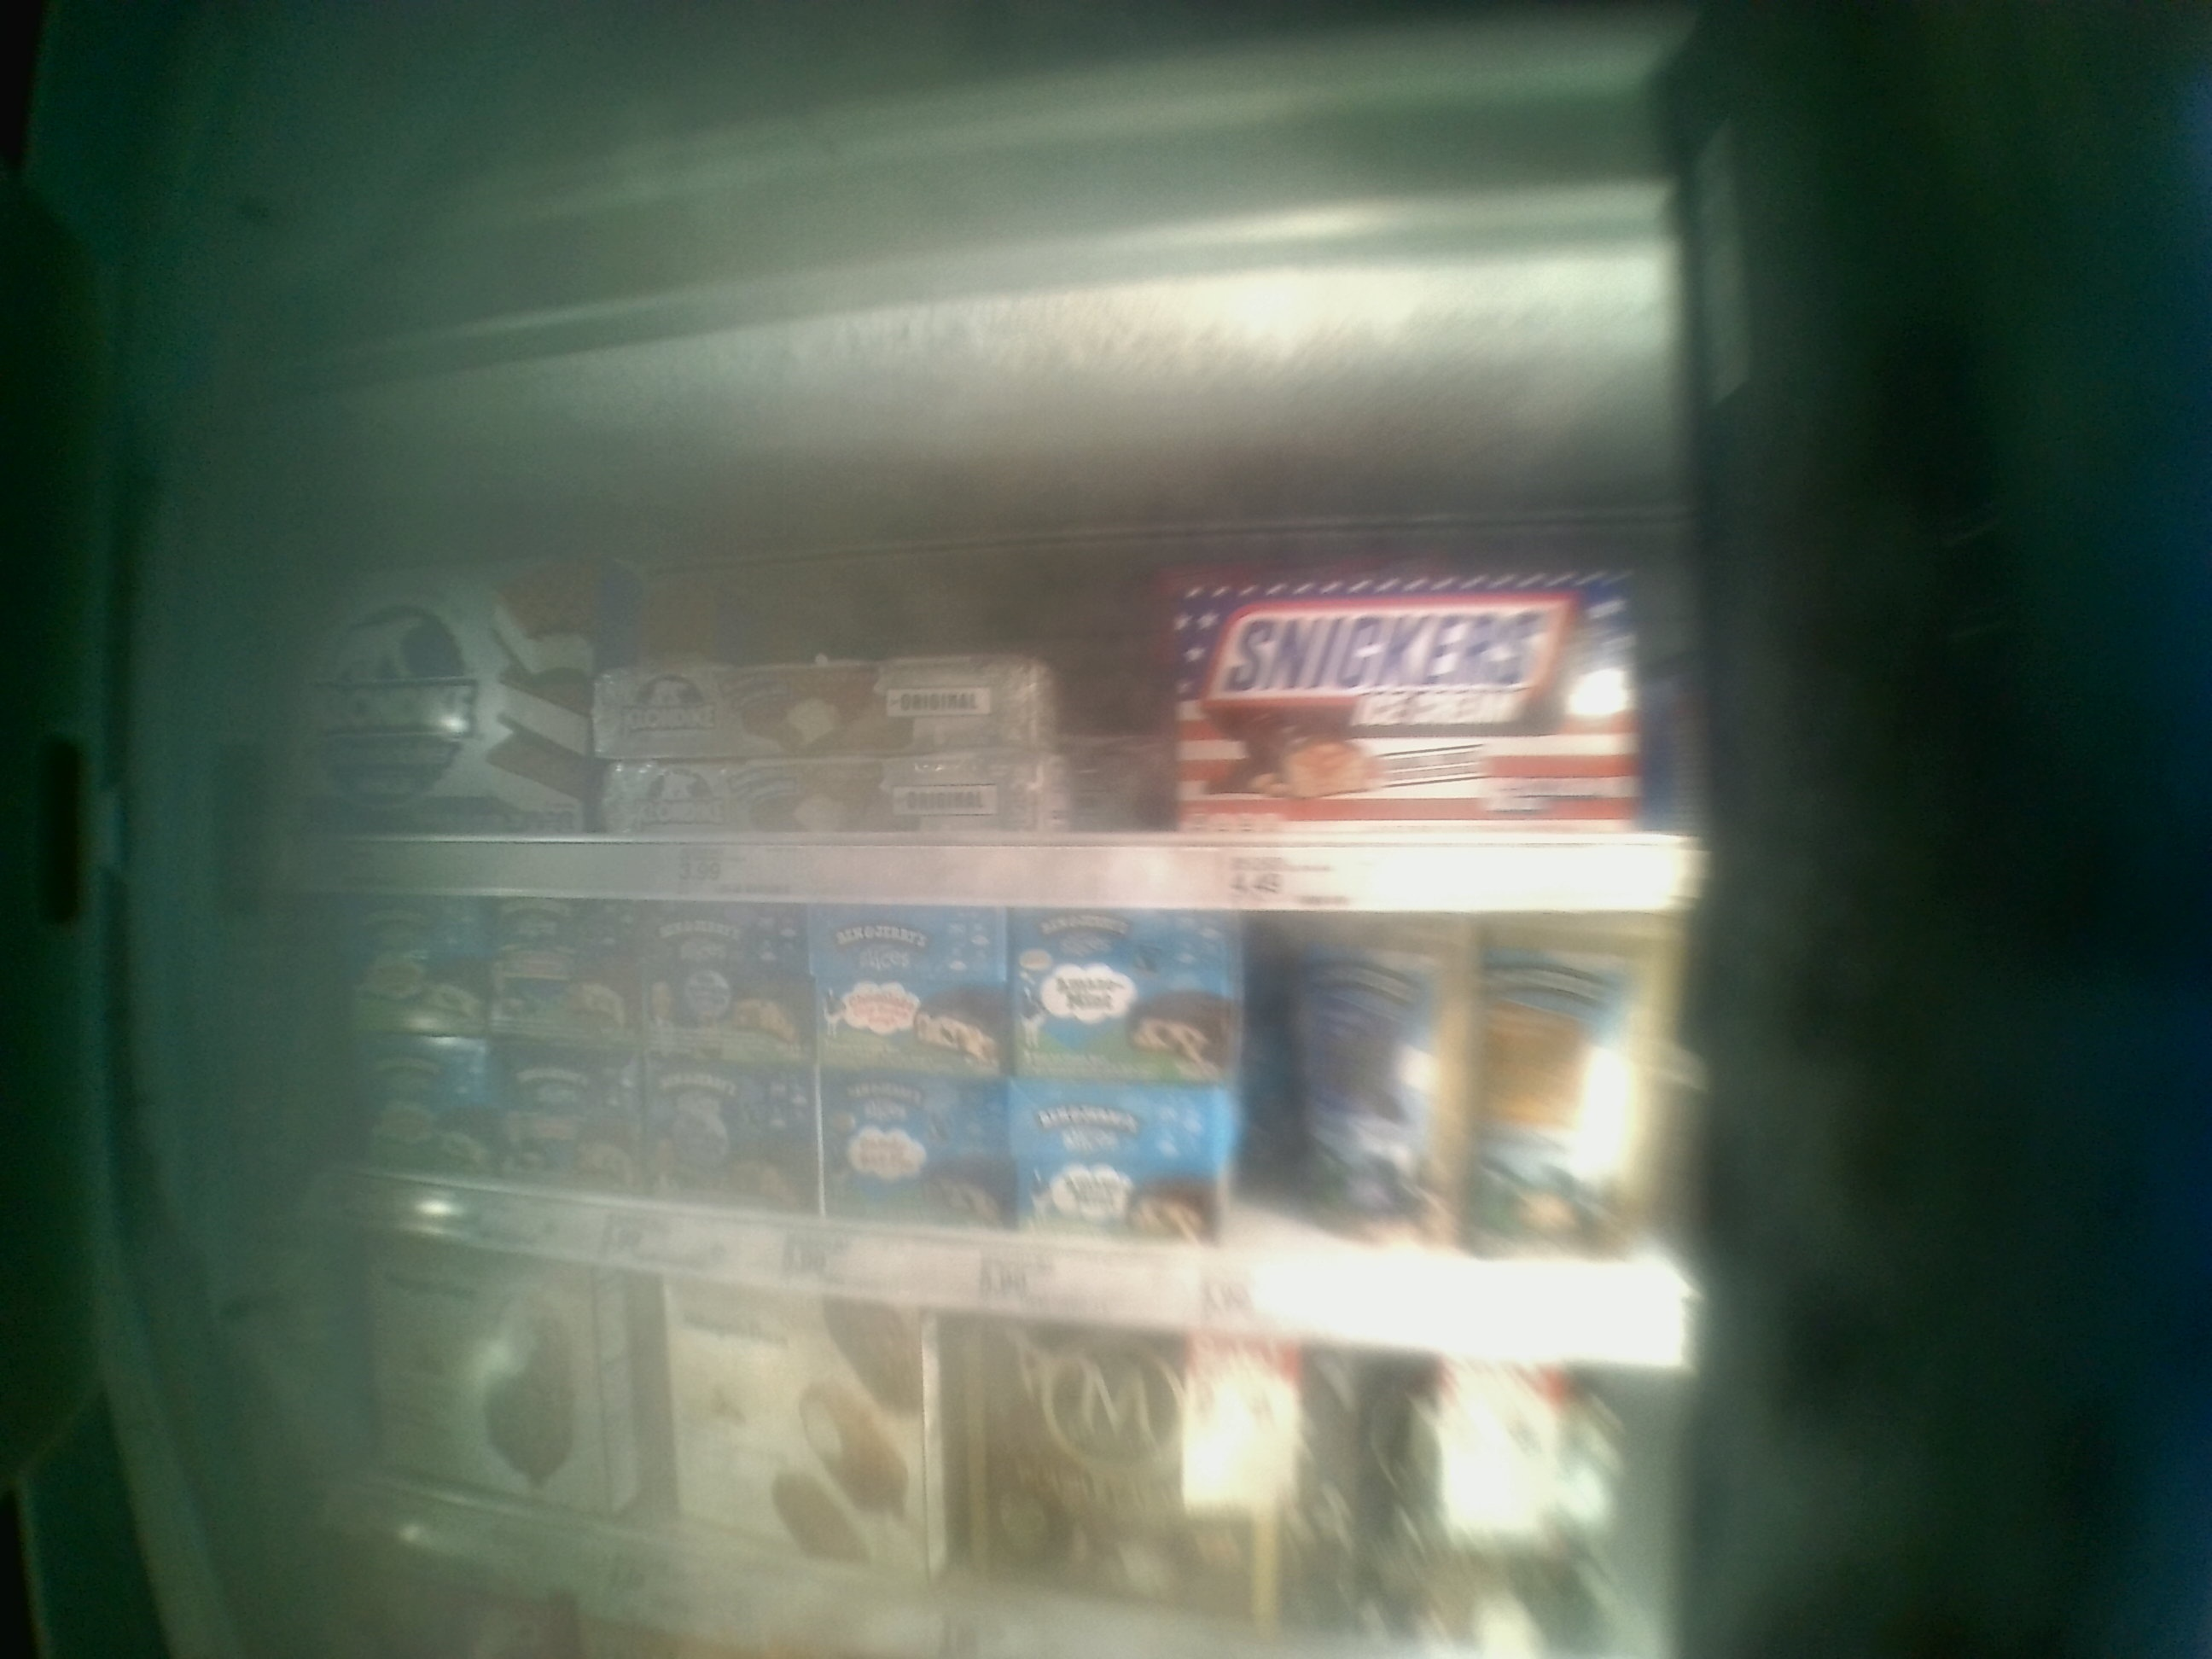shelf: (261, 446, 1696, 908), (265, 903, 1686, 1359)
